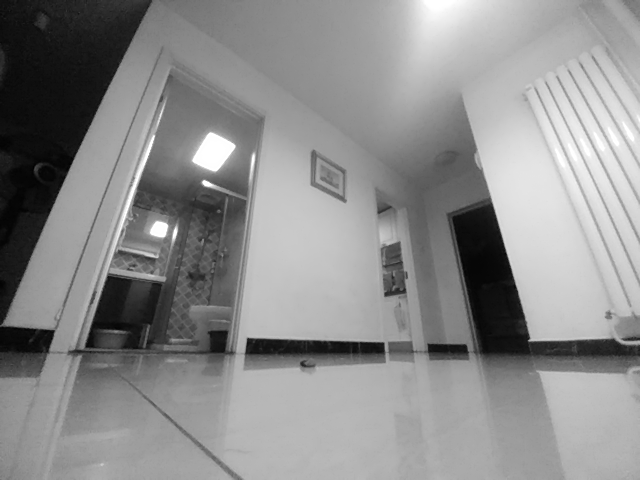pet feces: (297, 355, 318, 370)
